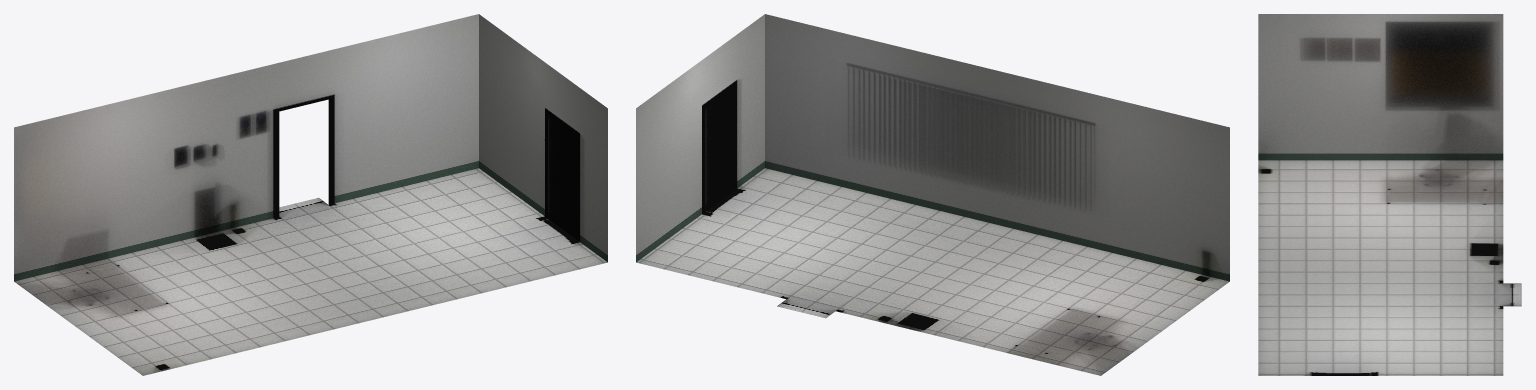
File: EscenarioTestThreeFiber_EMPTY.glb
The picture shows the model from 3 angles, left to right: view 1: azimuth 30°, elevation 25°; view 2: azimuth 150°, elevation 25°; view 3: azimuth 270°, elevation 25°; orthographic projection. The views are drawn at different scales.
Parts seen in each view (by area): view 1: Arquitectura_Habitacion_E.001; view 2: Arquitectura_Habitacion_E.001; view 3: Arquitectura_Habitacion_E.001.
Part boxes in pixels (x1,y1,x2,y2): Arquitectura_Habitacion_E.001: (14,14,607,375); Arquitectura_Habitacion_E.001: (636,14,1229,375); Arquitectura_Habitacion_E.001: (1258,14,1521,375).
Bounding box in the file's own units: 9.47 × 3 × 4.89.
1 material, 1 textured.
